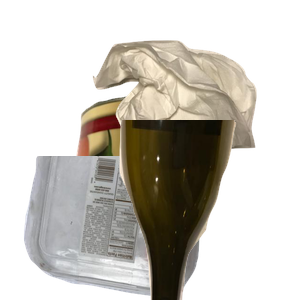glass: (117, 120, 300, 300)
metal: (69, 93, 265, 273)
plastic: (21, 156, 226, 300)
trash: (90, 38, 300, 183)
